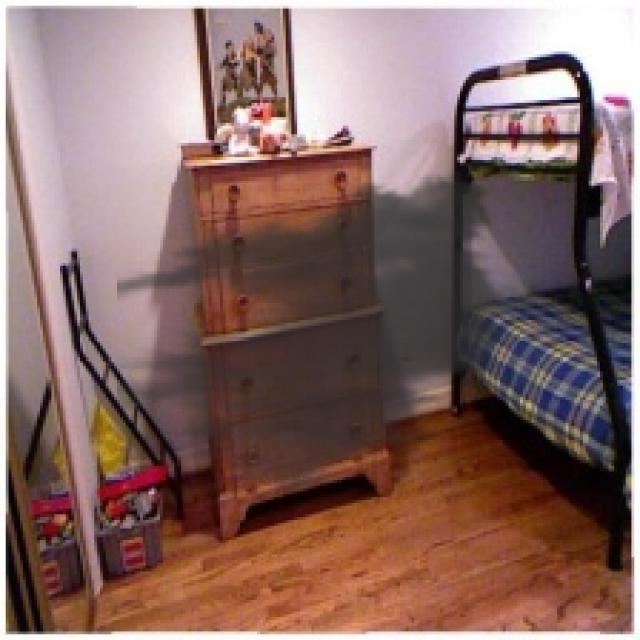Smoke: (117, 157, 529, 503)
